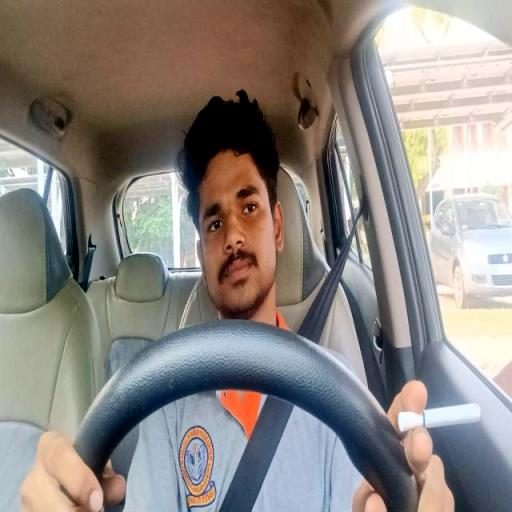Smoking: (15, 93, 484, 512)
